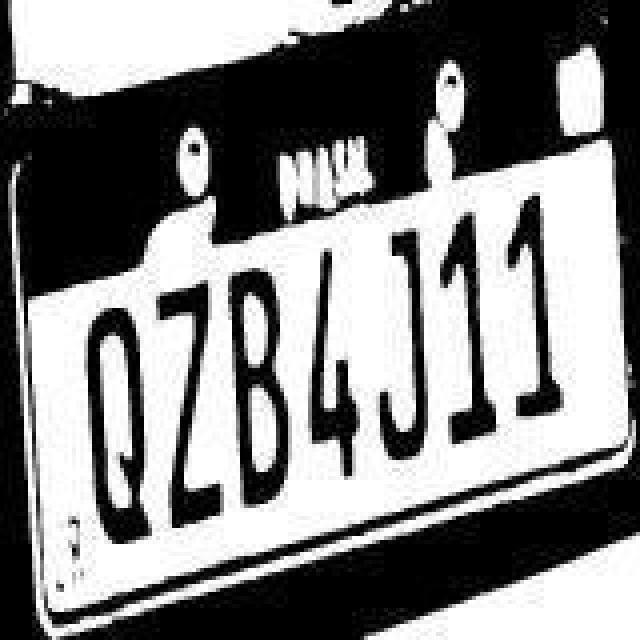1: (502, 184, 570, 432), (440, 198, 504, 458)
4: (302, 240, 370, 488)
B: (226, 256, 294, 512)
J: (372, 220, 436, 476)
Q: (84, 298, 156, 550)
Z: (158, 274, 226, 534)
